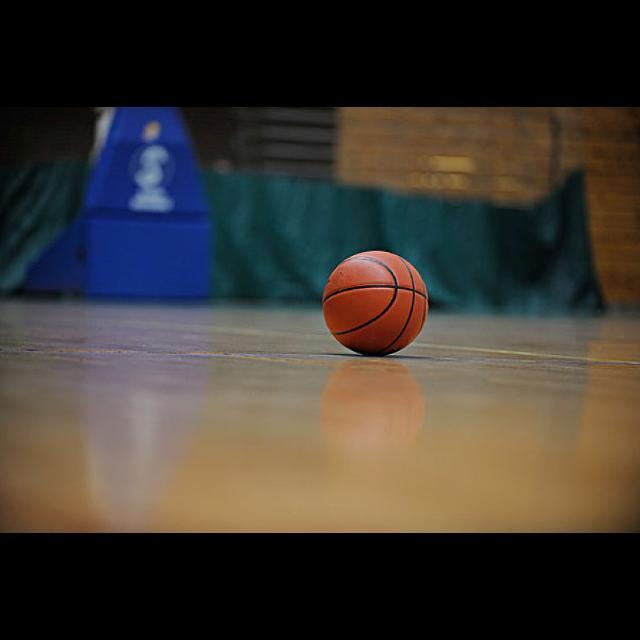basketball: (324, 251, 428, 355)
